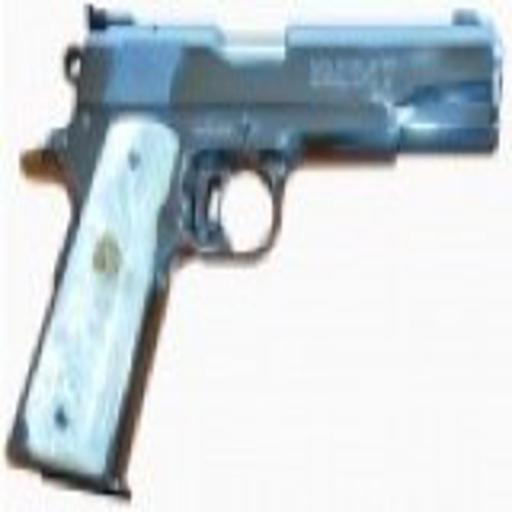Handgun: (2, 3, 507, 498)
